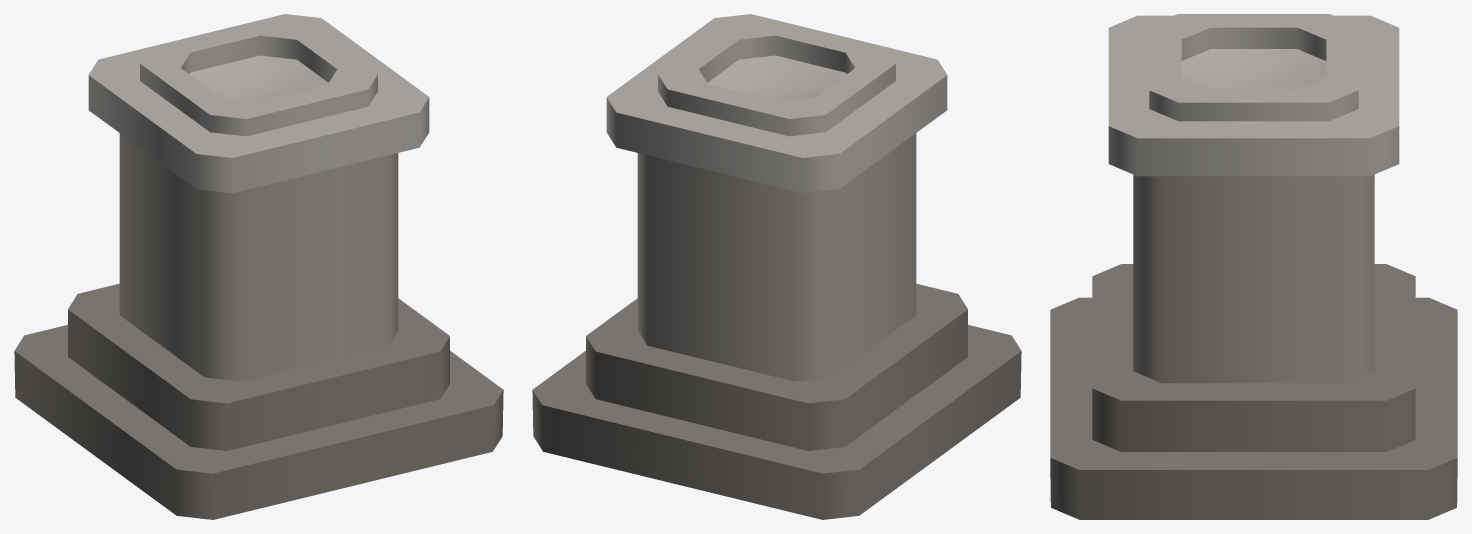
Rendered from Torch Stand 01.FBX.
3 views of the same model, side by side, from view 1: azimuth 30°, elevation 25°; view 2: azimuth 150°, elevation 25°; view 3: azimuth 270°, elevation 25° (orthographic). The views are drawn at different scales.
Parts seen in each view (by area): view 1: Torch Stand 01; view 2: Torch Stand 01; view 3: Torch Stand 01.
Part boxes in pixels (box(x1,y1,x2,y2)): Torch Stand 01: box(14, 14, 503, 519); Torch Stand 01: box(532, 14, 1021, 519); Torch Stand 01: box(1050, 14, 1457, 519).
Bounding box in the file's own units: 85.27 × 86.77 × 85.27.
1 material, 1 textured.
